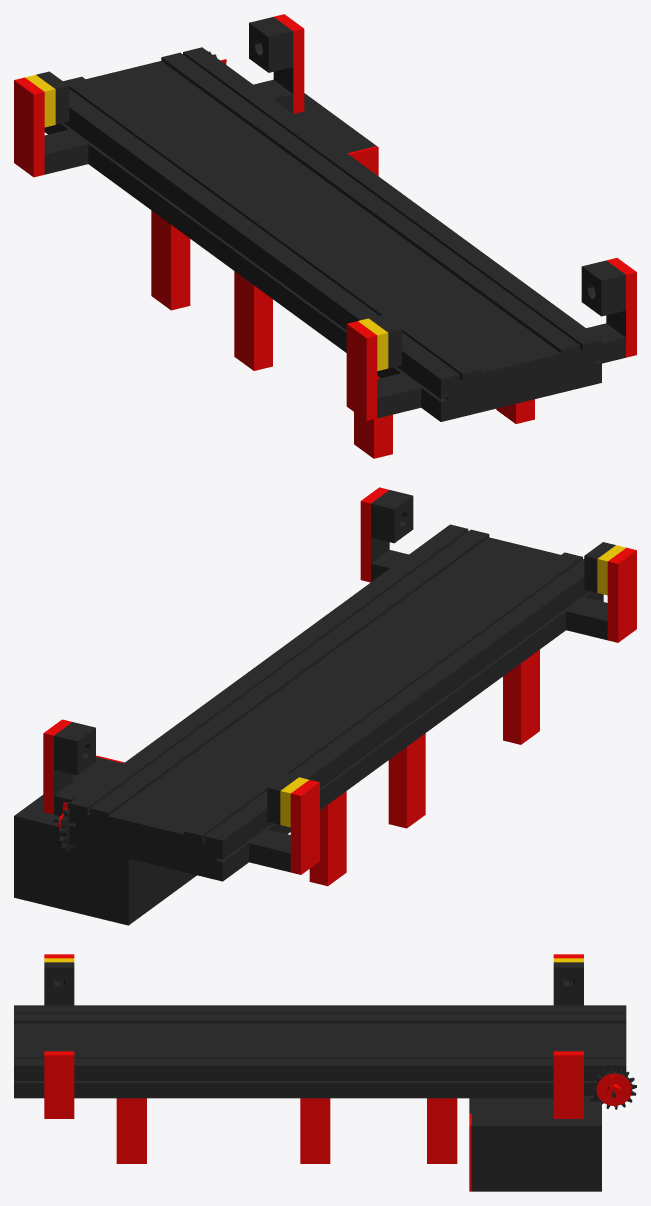
File: Conveyor.fbx
3 renders of one model, top to bottom at view 1: azimuth 30°, elevation 25°; view 2: azimuth 150°, elevation 25°; view 3: azimuth 270°, elevation 25°, orthographic. The views are drawn at different scales.
Parts seen in each view (by area): view 1: Conveyor, Belt; view 2: Conveyor, Belt; view 3: Conveyor, Belt, Wheel.
Boxes of the visible parts, box(x1,y1,x2,y2) form: Conveyor: box(14, 14, 636, 458); Belt: box(86, 61, 560, 376); Conveyor: box(14, 487, 636, 925); Belt: box(108, 537, 560, 837); Conveyor: box(14, 954, 626, 1191); Belt: box(14, 1023, 626, 1050); Wheel: box(591, 1067, 636, 1109).
Size of the model in its own units: 10.6 by 5.9 by 25.8.
